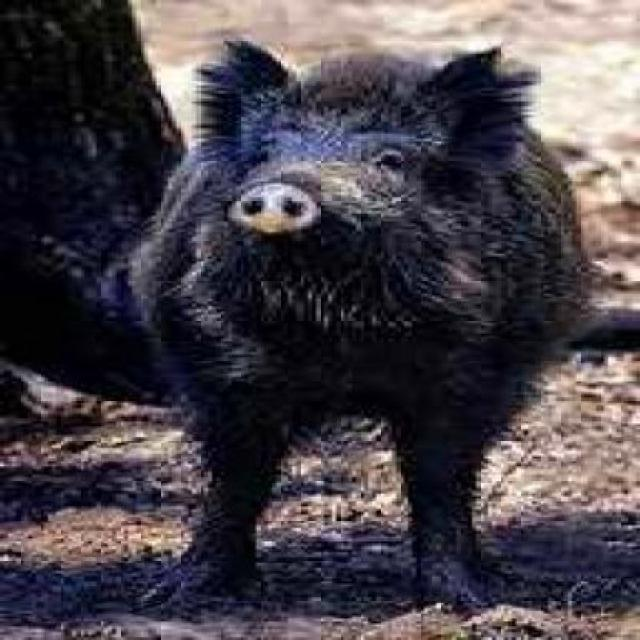Boar: (72, 25, 597, 592)
